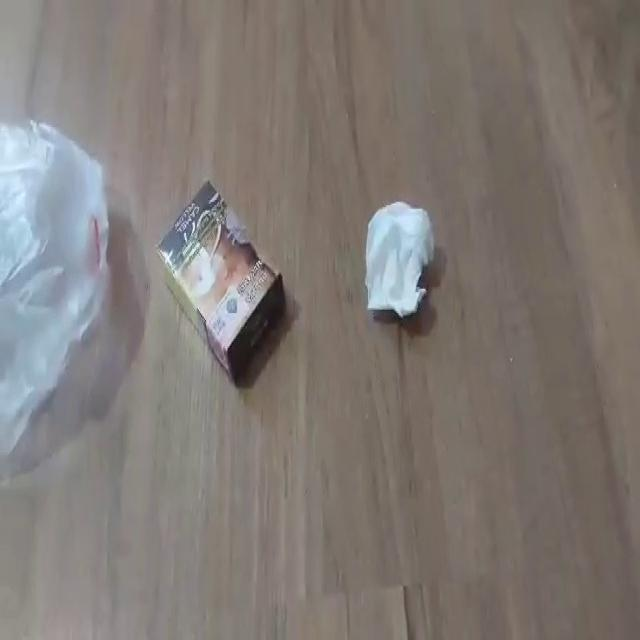Anorganik: (1, 115, 115, 461)
Organik: (152, 167, 289, 391), (360, 188, 438, 327)
